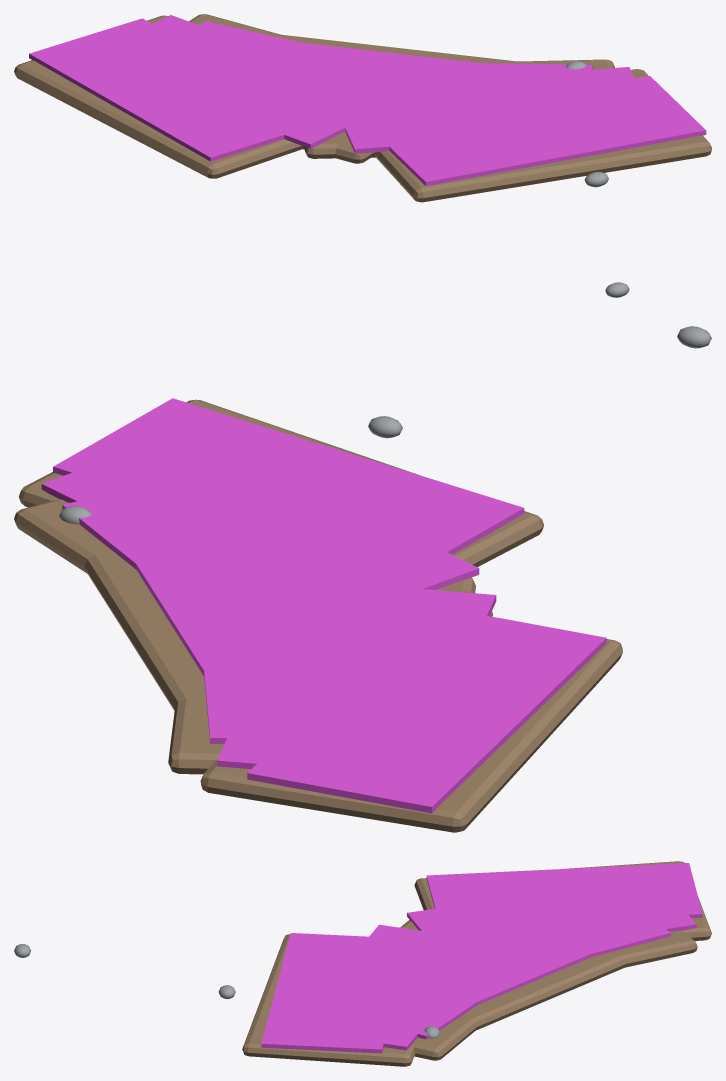
File: forest_path_dirt_curve_lod1_v1.glb
3 views of the same model, one above another, from view 1: azimuth 30°, elevation 25°; view 2: azimuth 150°, elevation 25°; view 3: azimuth 270°, elevation 25° (orthographic). The views are drawn at different scales.
Visible parts, largest first — view 1: NAV_MASK_FOREST_PATH_DIRT_CURVE_ARC_01, NAV_MASK_FOREST_PATH_DIRT_CURVE_ARC_06, NAV_MASK_FOREST_PATH_DIRT_CURVE_ARC_02, NAV_MASK_FOREST_PATH_DIRT_CURVE_ARC_05, NAV_MASK_FOREST_PATH_DIRT_CURVE_ARC_04, NAV_MASK_FOREST_PATH_DIRT_CURVE_ARC_07, LOD1_FOREST_PATH_DIRT_CURVE_Arc_01, NAV_MASK_FOREST_PATH_DIRT_CURVE_ARC_03, LOD1_FOREST_PATH_DIRT_CURVE_Arc_05, LOD1_FOREST_PATH_DIRT_CURVE_Arc_03, LOD1_FOREST_PATH_DIRT_CURVE_Arc_02, LOD1_FOREST_PATH_DIRT_CURVE_Arc_04; view 2: NAV_MASK_FOREST_PATH_DIRT_CURVE_ARC_07, NAV_MASK_FOREST_PATH_DIRT_CURVE_ARC_01, NAV_MASK_FOREST_PATH_DIRT_CURVE_ARC_03, NAV_MASK_FOREST_PATH_DIRT_CURVE_ARC_04, NAV_MASK_FOREST_PATH_DIRT_CURVE_ARC_02, NAV_MASK_FOREST_PATH_DIRT_CURVE_ARC_06, NAV_MASK_FOREST_PATH_DIRT_CURVE_ARC_05, LOD1_FOREST_PATH_DIRT_CURVE_Arc_05, LOD1_FOREST_PATH_DIRT_CURVE_Arc_03, LOD1_FOREST_PATH_DIRT_CURVE_Arc_04, LOD1_FOREST_PATH_DIRT_CURVE_Arc_01, LOD1_FOREST_PATH_DIRT_CURVE_Arc_02; view 3: NAV_MASK_FOREST_PATH_DIRT_CURVE_ARC_03, NAV_MASK_FOREST_PATH_DIRT_CURVE_ARC_01, NAV_MASK_FOREST_PATH_DIRT_CURVE_ARC_07, NAV_MASK_FOREST_PATH_DIRT_CURVE_ARC_05, NAV_MASK_FOREST_PATH_DIRT_CURVE_ARC_02, NAV_MASK_FOREST_PATH_DIRT_CURVE_ARC_06, NAV_MASK_FOREST_PATH_DIRT_CURVE_ARC_04, LOD1_FOREST_PATH_DIRT_CURVE_Arc_03, LOD1_FOREST_PATH_DIRT_CURVE_Arc_01, LOD1_FOREST_PATH_DIRT_CURVE_Arc_04, LOD1_FOREST_PATH_DIRT_CURVE_Arc_02, LOD1_FOREST_PATH_DIRT_CURVE_Arc_05.
Part boxes in pixels (box(x1,y1,x2,y2)): NAV_MASK_FOREST_PATH_DIRT_CURVE_ARC_01: box(377, 76, 706, 185); NAV_MASK_FOREST_PATH_DIRT_CURVE_ARC_06: box(79, 15, 394, 148); NAV_MASK_FOREST_PATH_DIRT_CURVE_ARC_02: box(329, 67, 648, 153); NAV_MASK_FOREST_PATH_DIRT_CURVE_ARC_05: box(140, 21, 471, 105); NAV_MASK_FOREST_PATH_DIRT_CURVE_ARC_04: box(212, 36, 539, 126); NAV_MASK_FOREST_PATH_DIRT_CURVE_ARC_07: box(29, 18, 309, 161); LOD1_FOREST_PATH_DIRT_CURVE_Arc_01: box(374, 69, 711, 202); NAV_MASK_FOREST_PATH_DIRT_CURVE_ARC_03: box(283, 60, 592, 122); LOD1_FOREST_PATH_DIRT_CURVE_Arc_05: box(14, 15, 302, 178); LOD1_FOREST_PATH_DIRT_CURVE_Arc_03: box(257, 32, 534, 63); LOD1_FOREST_PATH_DIRT_CURVE_Arc_02: box(304, 59, 614, 158); LOD1_FOREST_PATH_DIRT_CURVE_Arc_04: box(189, 14, 372, 163); NAV_MASK_FOREST_PATH_DIRT_CURVE_ARC_07: box(247, 604, 606, 813); NAV_MASK_FOREST_PATH_DIRT_CURVE_ARC_01: box(53, 398, 524, 572); NAV_MASK_FOREST_PATH_DIRT_CURVE_ARC_03: box(62, 465, 443, 667); NAV_MASK_FOREST_PATH_DIRT_CURVE_ARC_04: box(116, 506, 420, 706); NAV_MASK_FOREST_PATH_DIRT_CURVE_ARC_02: box(41, 428, 479, 623); NAV_MASK_FOREST_PATH_DIRT_CURVE_ARC_06: box(217, 585, 496, 776); NAV_MASK_FOREST_PATH_DIRT_CURVE_ARC_05: box(194, 550, 411, 743); LOD1_FOREST_PATH_DIRT_CURVE_Arc_05: box(200, 639, 622, 832); LOD1_FOREST_PATH_DIRT_CURVE_Arc_03: box(84, 546, 207, 715); LOD1_FOREST_PATH_DIRT_CURVE_Arc_04: box(168, 577, 475, 774); LOD1_FOREST_PATH_DIRT_CURVE_Arc_01: box(19, 399, 543, 567); LOD1_FOREST_PATH_DIRT_CURVE_Arc_02: box(14, 499, 492, 616); NAV_MASK_FOREST_PATH_DIRT_CURVE_ARC_03: box(324, 914, 560, 1039); NAV_MASK_FOREST_PATH_DIRT_CURVE_ARC_01: box(261, 933, 410, 1053); NAV_MASK_FOREST_PATH_DIRT_CURVE_ARC_07: box(426, 863, 702, 923); NAV_MASK_FOREST_PATH_DIRT_CURVE_ARC_05: box(383, 889, 670, 968); NAV_MASK_FOREST_PATH_DIRT_CURVE_ARC_02: box(301, 924, 493, 1050); NAV_MASK_FOREST_PATH_DIRT_CURVE_ARC_06: box(407, 876, 696, 946); NAV_MASK_FOREST_PATH_DIRT_CURVE_ARC_04: box(354, 902, 609, 1012); LOD1_FOREST_PATH_DIRT_CURVE_Arc_03: box(449, 946, 637, 1030); LOD1_FOREST_PATH_DIRT_CURVE_Arc_01: box(242, 934, 415, 1066); LOD1_FOREST_PATH_DIRT_CURVE_Arc_04: box(399, 925, 697, 967); LOD1_FOREST_PATH_DIRT_CURVE_Arc_02: box(401, 920, 492, 1060); LOD1_FOREST_PATH_DIRT_CURVE_Arc_05: box(414, 861, 711, 940).
Size of what is drawn, in the model's own units: 5.44 by 0.24 by 8.09.
